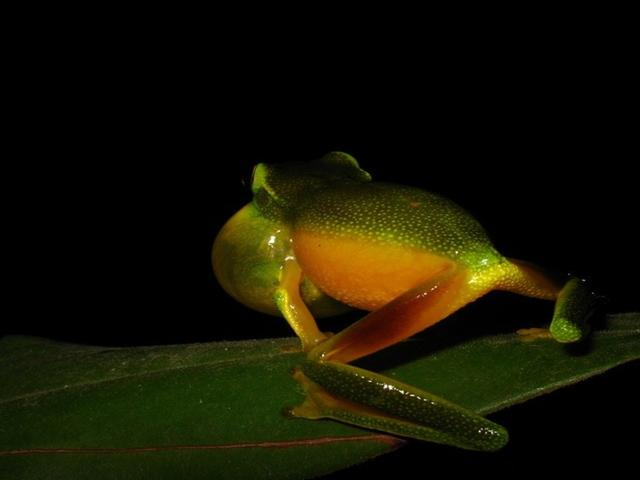frog: (149, 125, 622, 448)
